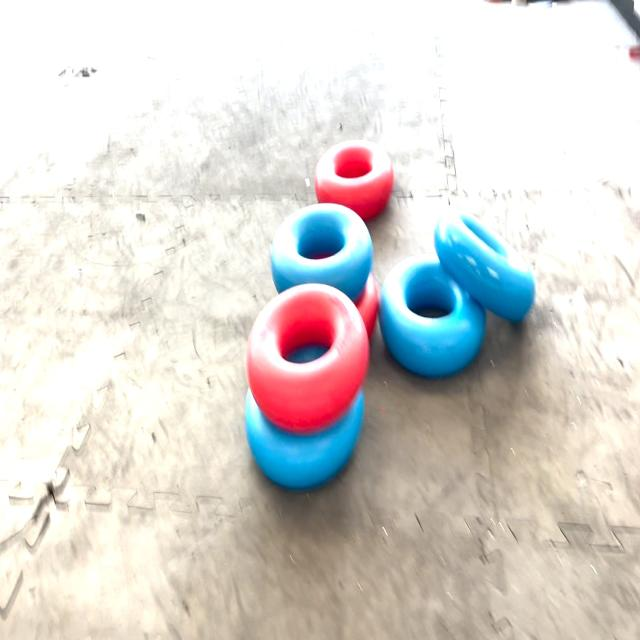Blue-Ring: (379, 256, 486, 378), (245, 389, 364, 489), (434, 213, 535, 322), (271, 204, 372, 300)
Red-Ring: (246, 284, 369, 433), (314, 140, 394, 220)
